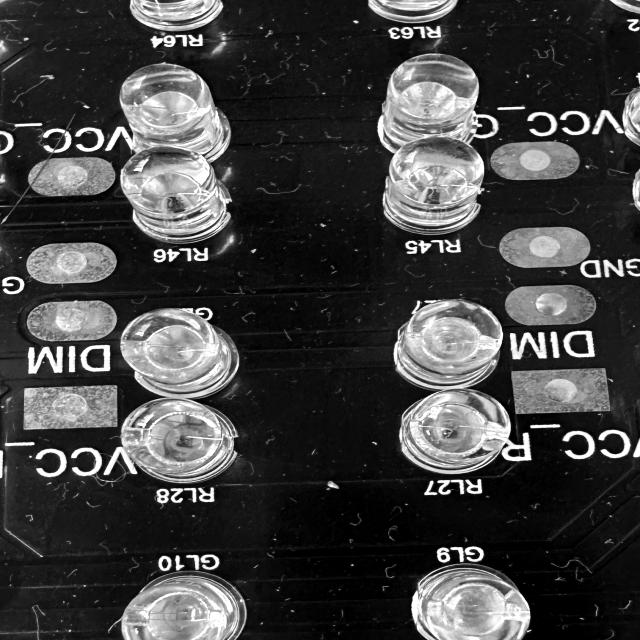led: (123, 59, 233, 173), (119, 308, 242, 400), (120, 145, 234, 244), (120, 397, 240, 486), (378, 50, 480, 151), (396, 298, 505, 391), (396, 388, 511, 475), (385, 135, 482, 236), (410, 563, 530, 640), (122, 569, 247, 640), (120, 0, 224, 30), (368, 0, 463, 23)
